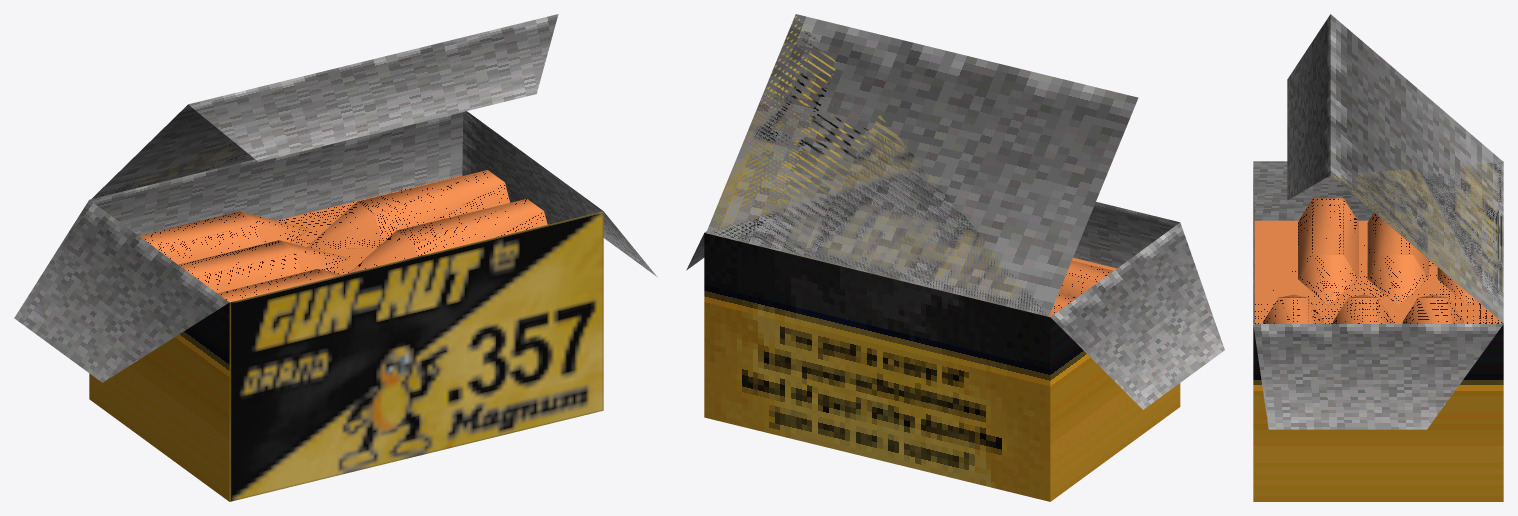
File: revolver-ammo.glb
The picture shows the model from 3 angles, left to right: view 1: azimuth 30°, elevation 25°; view 2: azimuth 150°, elevation 25°; view 3: azimuth 270°, elevation 25°; orthographic projection. The views are drawn at different scales.
Visible parts, largest first — view 1: w_pythonammobox; view 2: w_pythonammobox; view 3: w_pythonammobox.
Boxes of the visible parts, x1=… form: w_pythonammobox: x1=14, y1=14, x2=657, y2=501; w_pythonammobox: x1=686, y1=14, x2=1224, y2=501; w_pythonammobox: x1=1253, y1=14, x2=1503, y2=501.
Bounding box in the file's own units: 0.9116 × 0.607 × 0.4224.
Materials: 4 (4 with a texture image).
